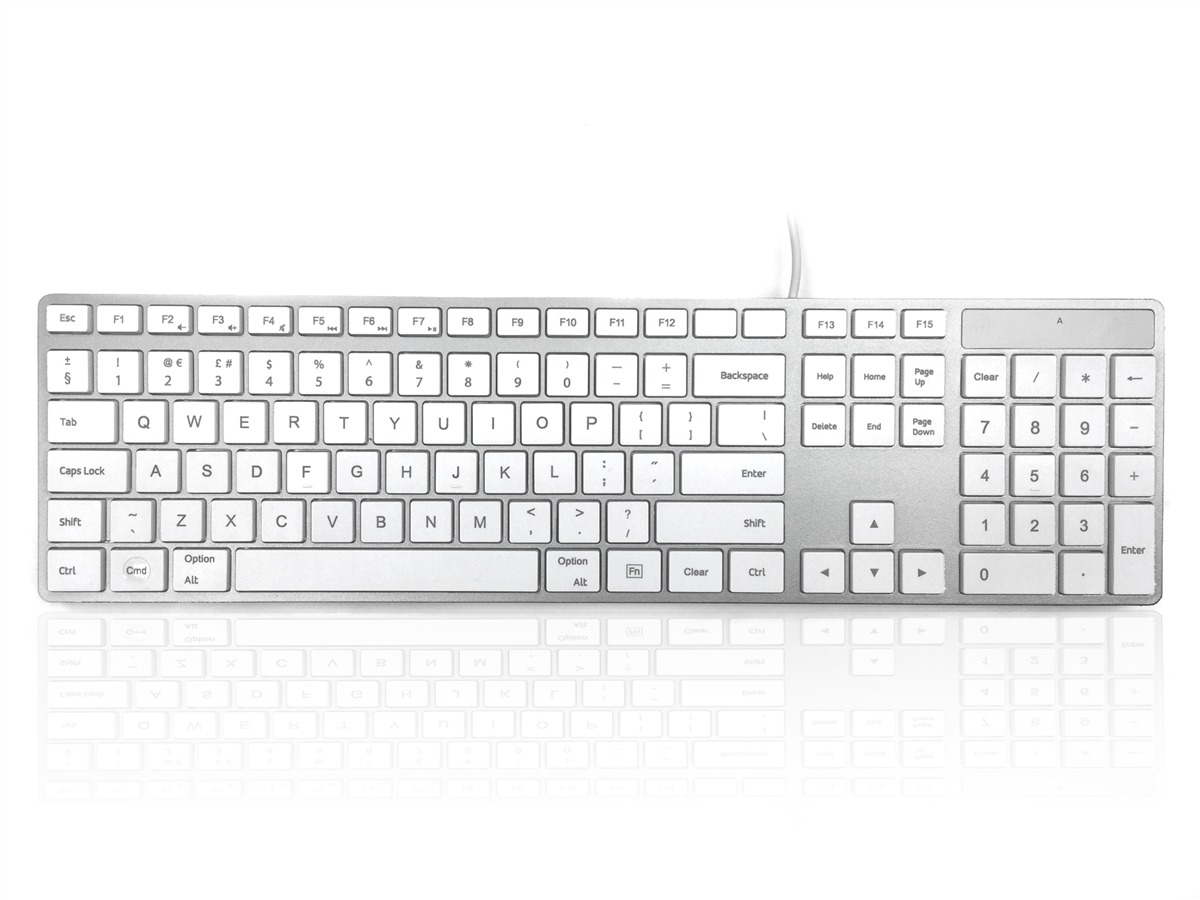keyboard: (42, 298, 1162, 600)
